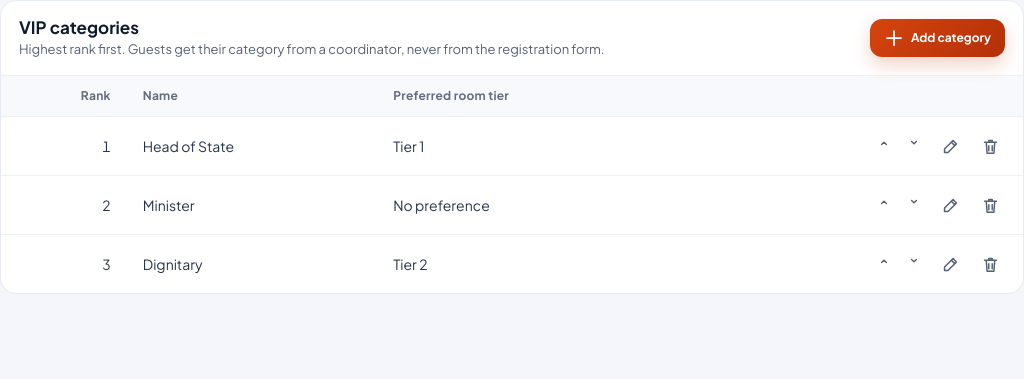
Test: CategoriesTab › moves a category down and shows a refused reorder
Expected: the text "Minister" is shown, [127,176,377,234]
What coordinates should you click on to do the following:
click the button named "Move Head of State down"
I would click on:
 (913, 143)
Its box is [899,129,927,157].
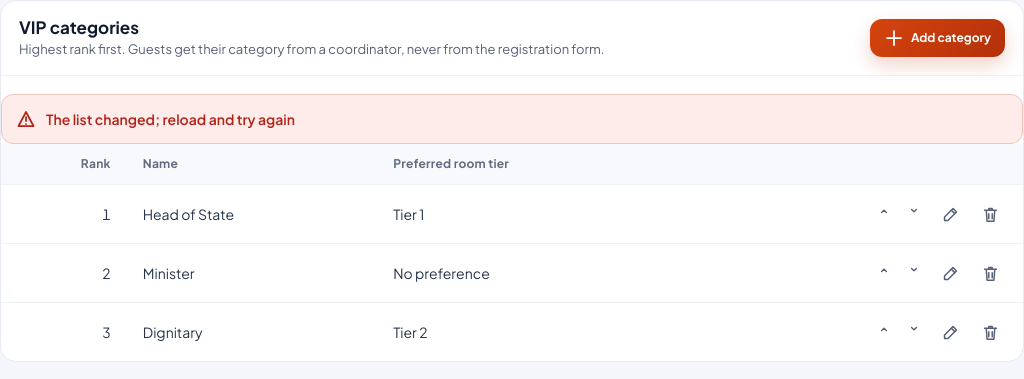
Expected: the message reads "The list changed; reload and try again", [46,110,295,128]
